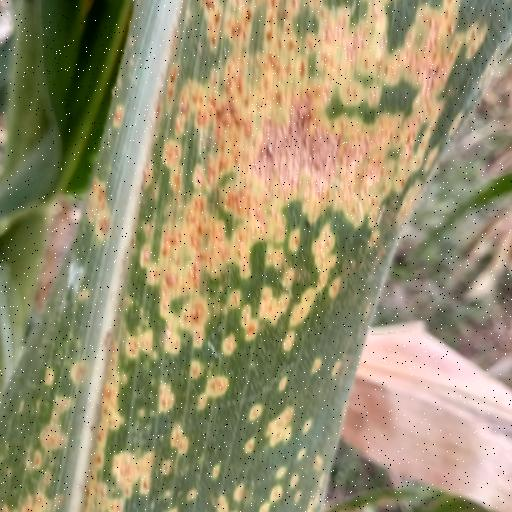Corn_Rust: (5, 5, 512, 511)
